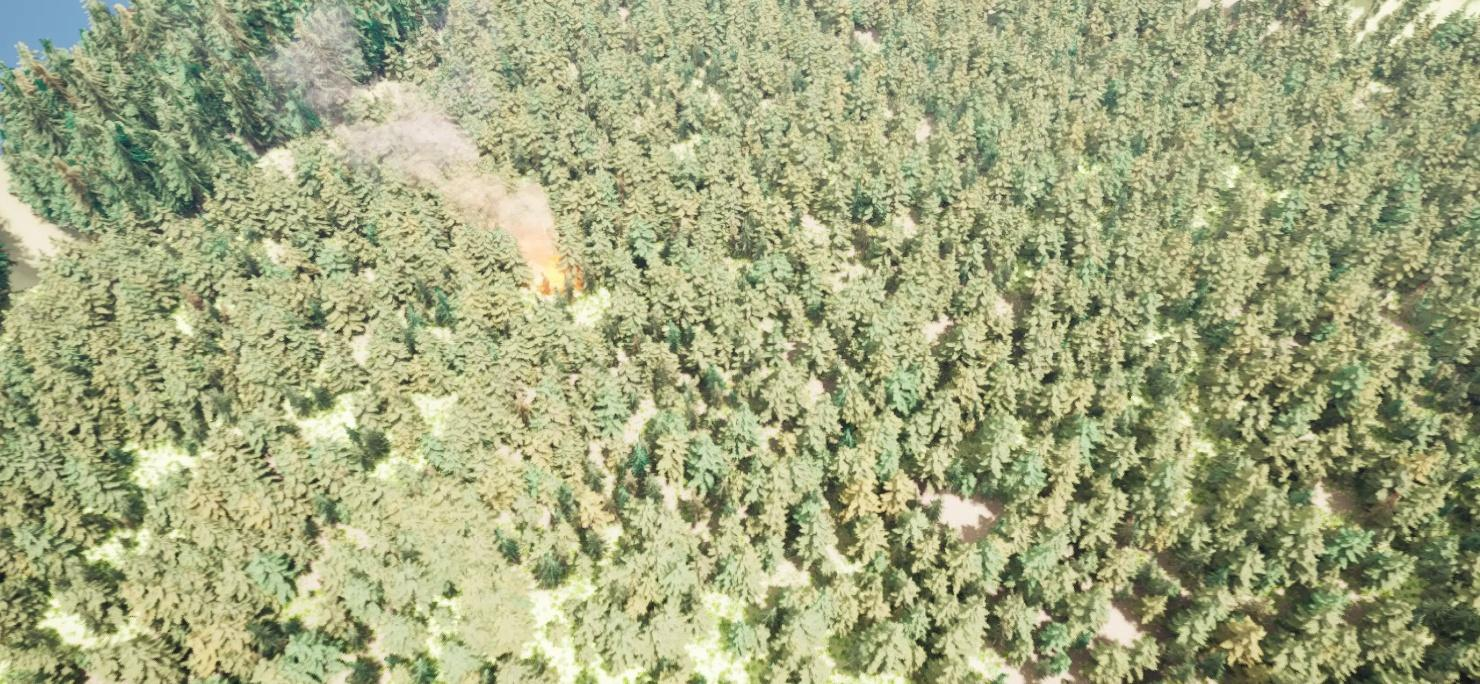fire: (518, 260, 582, 304)
smoke: (275, 6, 562, 260)
